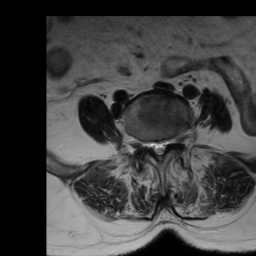CCS_normal: (155, 132, 162, 166)
LFS_stenosis: (169, 130, 176, 153)
LLS_normal: (162, 133, 169, 153)
RFS_stenosis: (142, 131, 149, 154)
RLS_stenosis: (149, 132, 156, 155)
